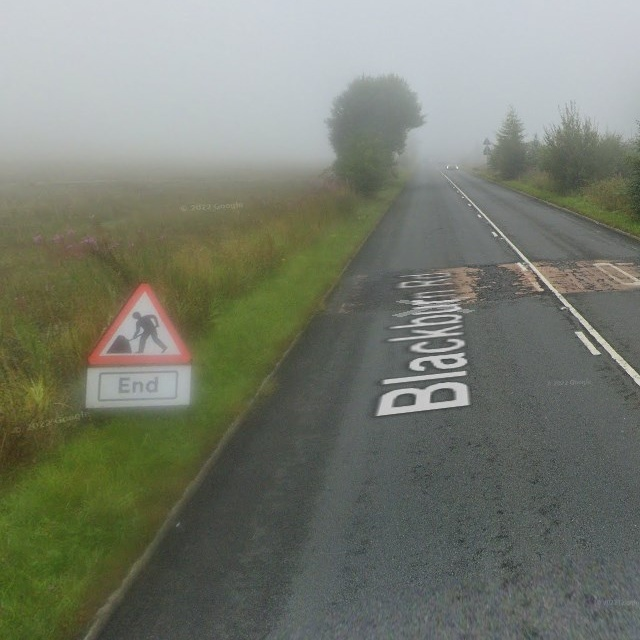Roadworks: (86, 278, 192, 363)
